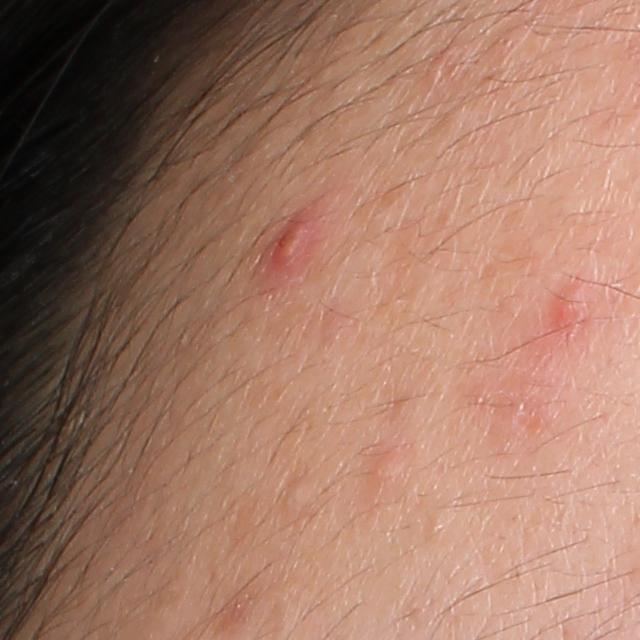comedo: (279, 476, 307, 507), (428, 516, 445, 535)
papule: (550, 278, 594, 334), (370, 449, 406, 491)
